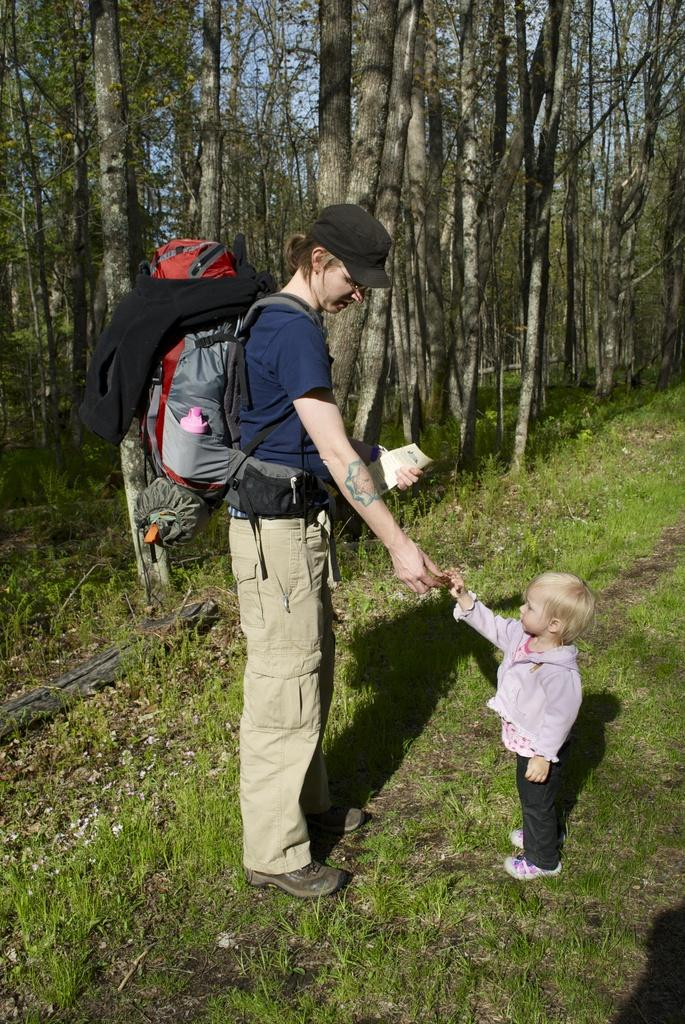Luggage-and-bags: (140, 248, 283, 529)
